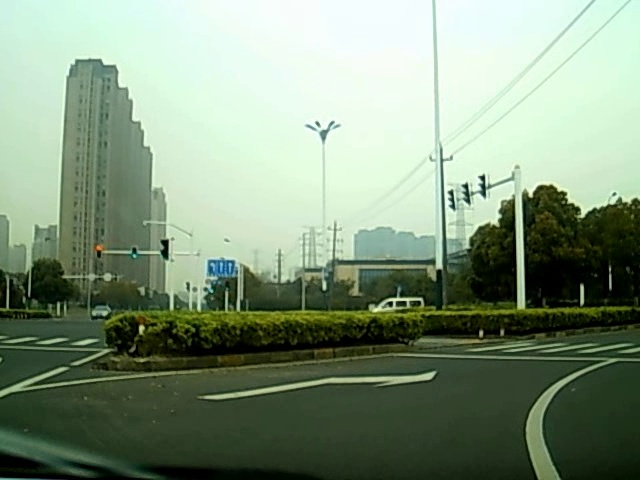Traffic_Light_go: (131, 246, 139, 260)
Traffic_Light_stop: (94, 244, 104, 261)
